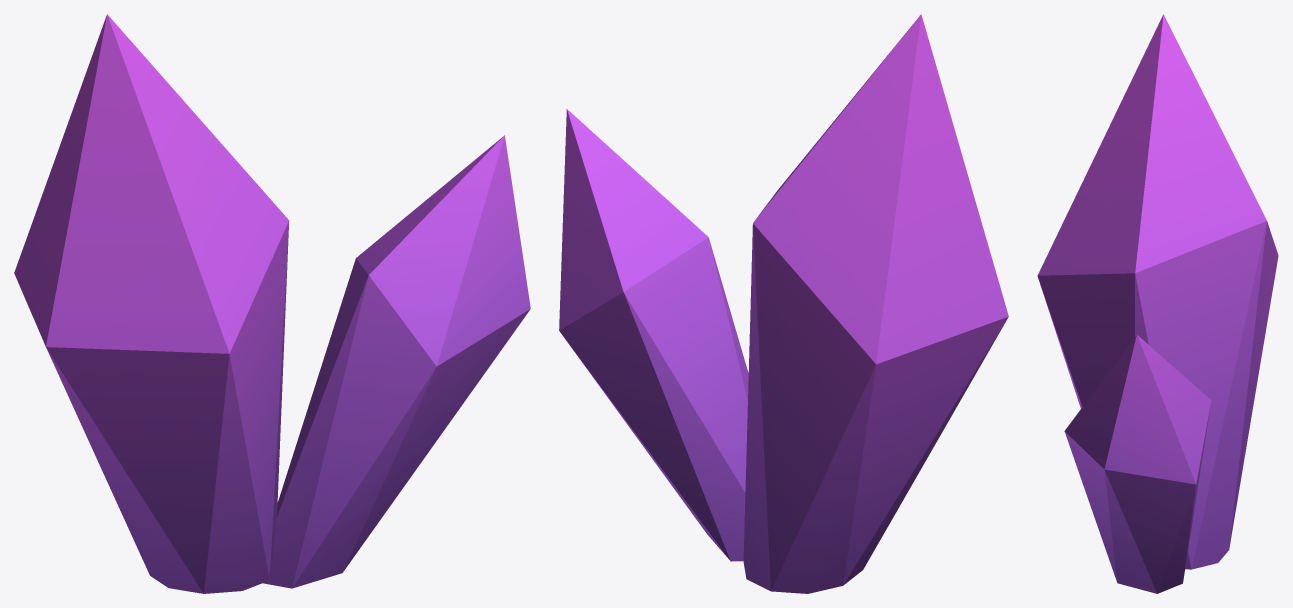
File: Crystal_purple_04.fbx
3 views of the same model, side by side, from view 1: azimuth 30°, elevation 25°; view 2: azimuth 150°, elevation 25°; view 3: azimuth 270°, elevation 25° (orthographic). The views are drawn at different scales.
Parts seen in each view (by area): view 1: Crystal_purple_04; view 2: Crystal_purple_04; view 3: Crystal_purple_04.
Part boxes in pixels (bbox=[...]): Crystal_purple_04: bbox=[14, 14, 530, 593]; Crystal_purple_04: bbox=[559, 14, 1008, 593]; Crystal_purple_04: bbox=[1037, 14, 1278, 593].
Bounding box in the file's own units: 75.54 × 93.53 × 41.27.
